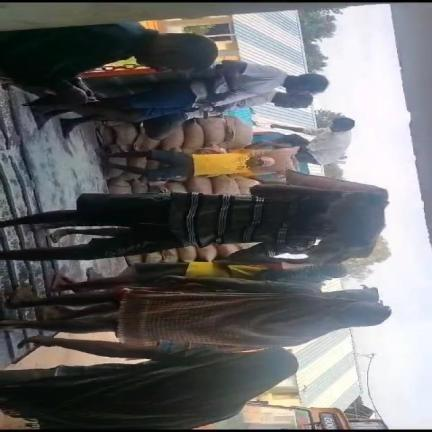Zone-Counting: (0, 169, 387, 263)
